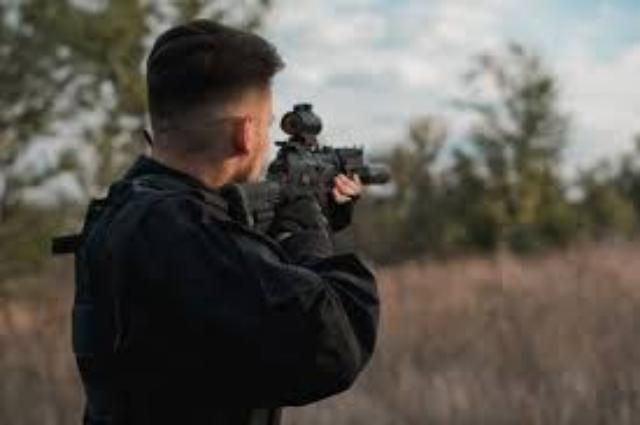other: (72, 16, 384, 423)
